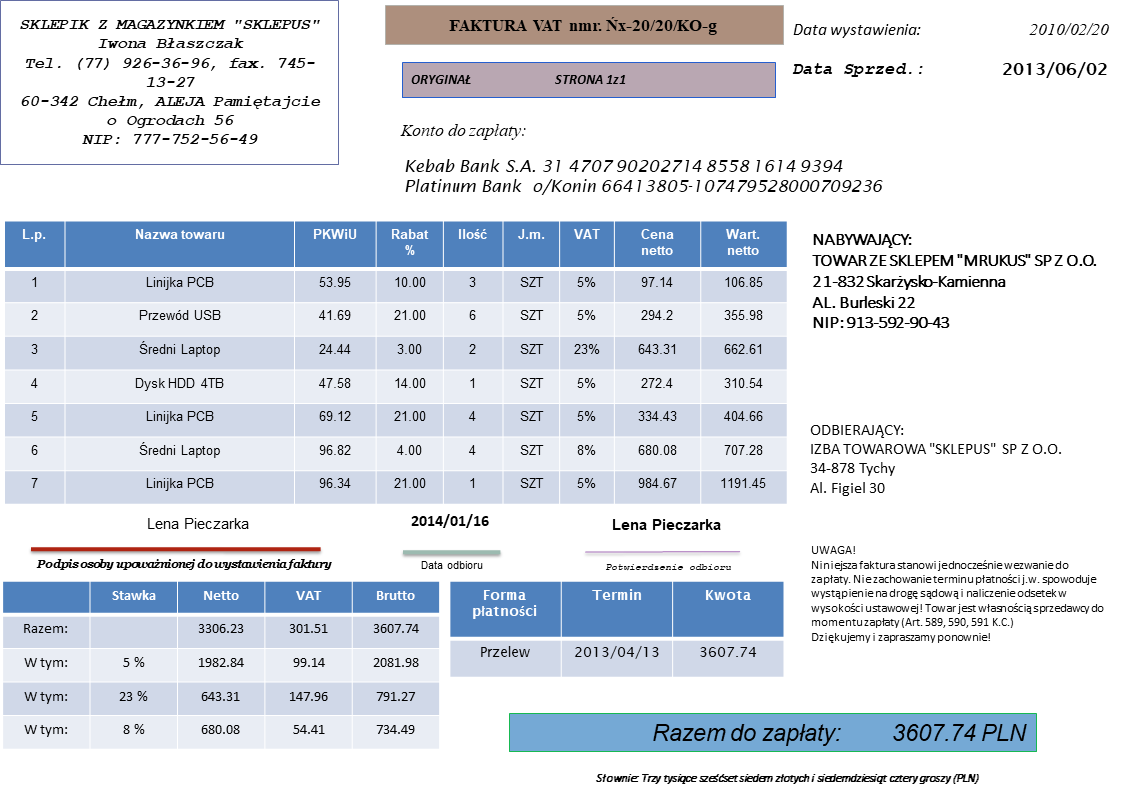Table: (2, 219, 789, 505), (1, 580, 440, 751), (449, 581, 786, 678)
TextBox: (17, 12, 324, 148), (807, 542, 1104, 647), (809, 230, 1100, 334), (807, 420, 1063, 498), (403, 155, 886, 196), (647, 720, 1030, 746), (594, 768, 979, 787), (446, 14, 720, 38), (34, 555, 335, 574), (408, 70, 629, 89), (398, 120, 528, 143), (792, 59, 925, 80), (791, 20, 922, 38), (608, 514, 722, 534), (1000, 59, 1108, 78), (144, 514, 251, 532), (604, 559, 732, 573), (408, 512, 492, 530), (1027, 20, 1110, 37), (419, 557, 485, 573)
